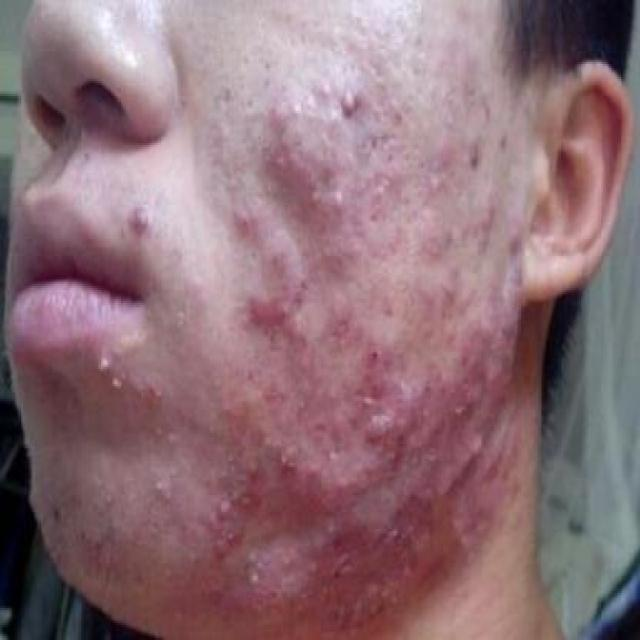blackheads: (329, 73, 369, 124), (360, 335, 395, 369)
nodules: (258, 79, 376, 215), (231, 194, 317, 337), (231, 523, 332, 625), (348, 369, 440, 476), (434, 284, 511, 394)
pustules: (120, 194, 162, 245), (88, 341, 121, 384), (104, 376, 136, 406)
